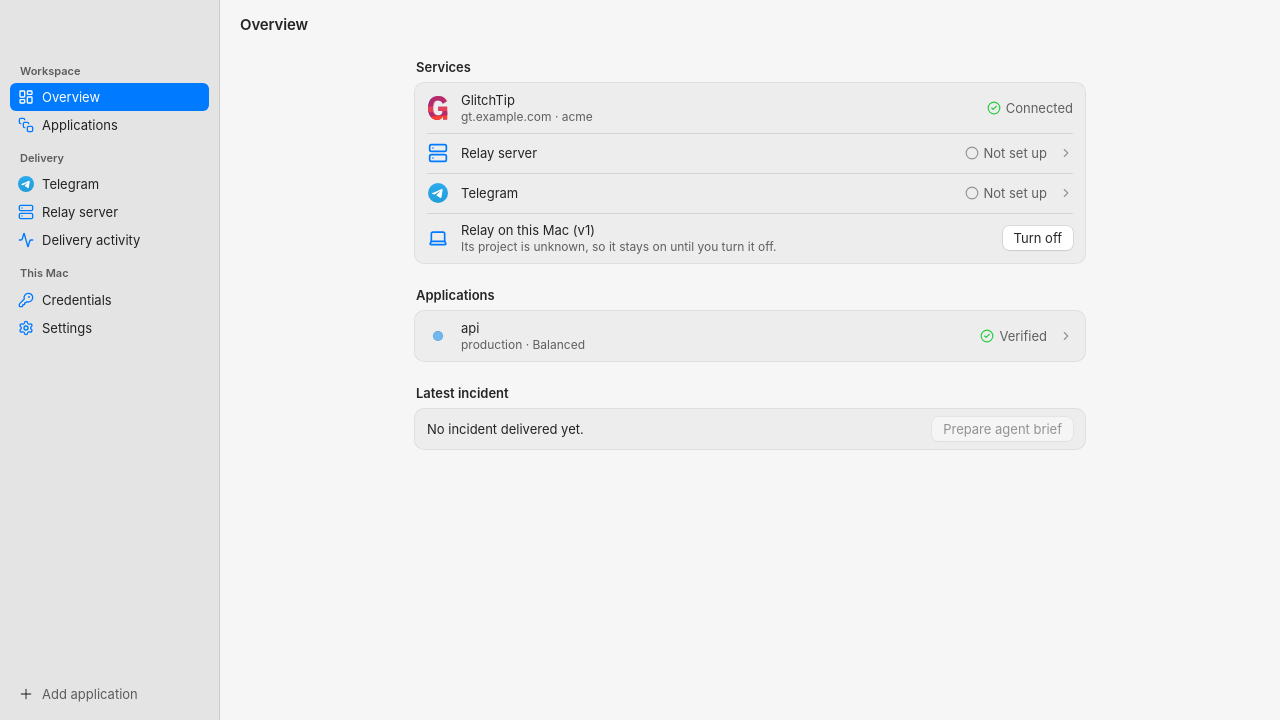
Scenario: first run › turns off a v1 whose project is unknown only when the user confirms
The image size is (1280, 720).
expect the text "Its project is unknown, so it stays on until you turn it off." is shown: met, box 461,239 -> 776,254
Click the button "Turn off" at (1038, 238), box 1002,226 -> 1073,250
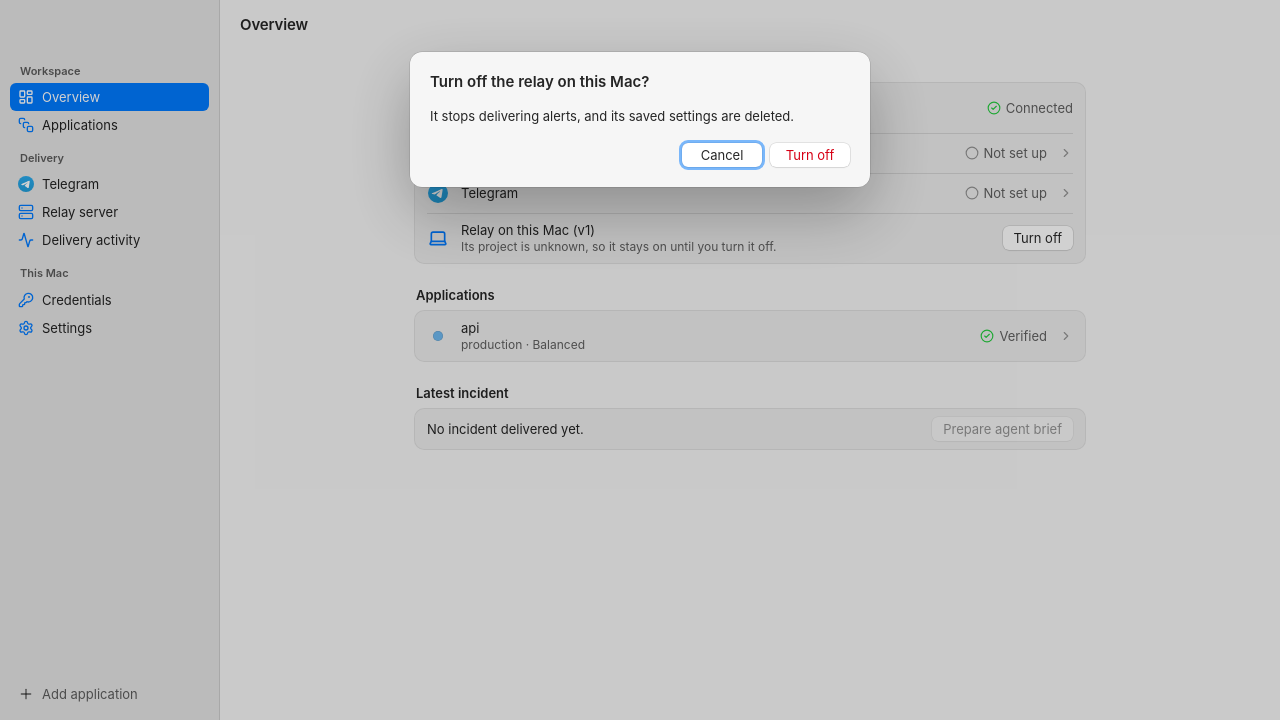
Click the button "Turn off" at (810, 155), box 770,143 -> 850,167
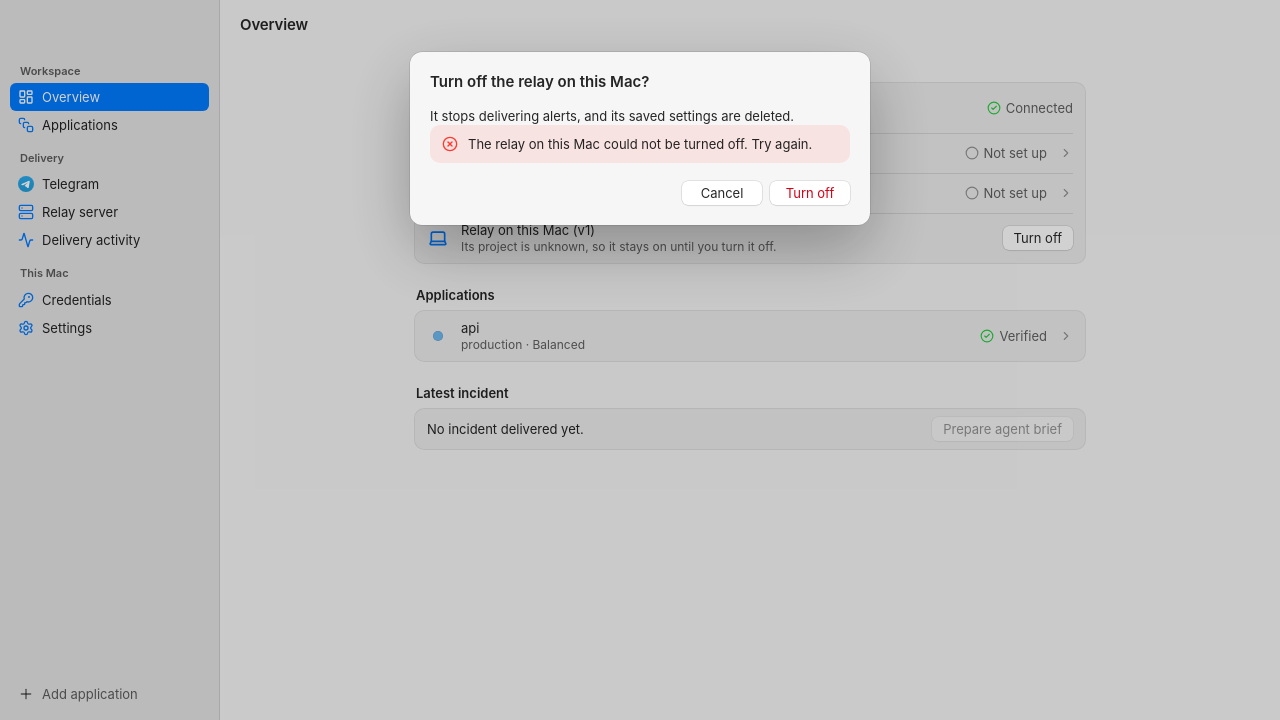
expect the text "The relay on this Mac could not be turned off. Try again." is shown: met, box 468,135 -> 812,153
Click the button "Turn off" at (810, 193), box 770,181 -> 850,205
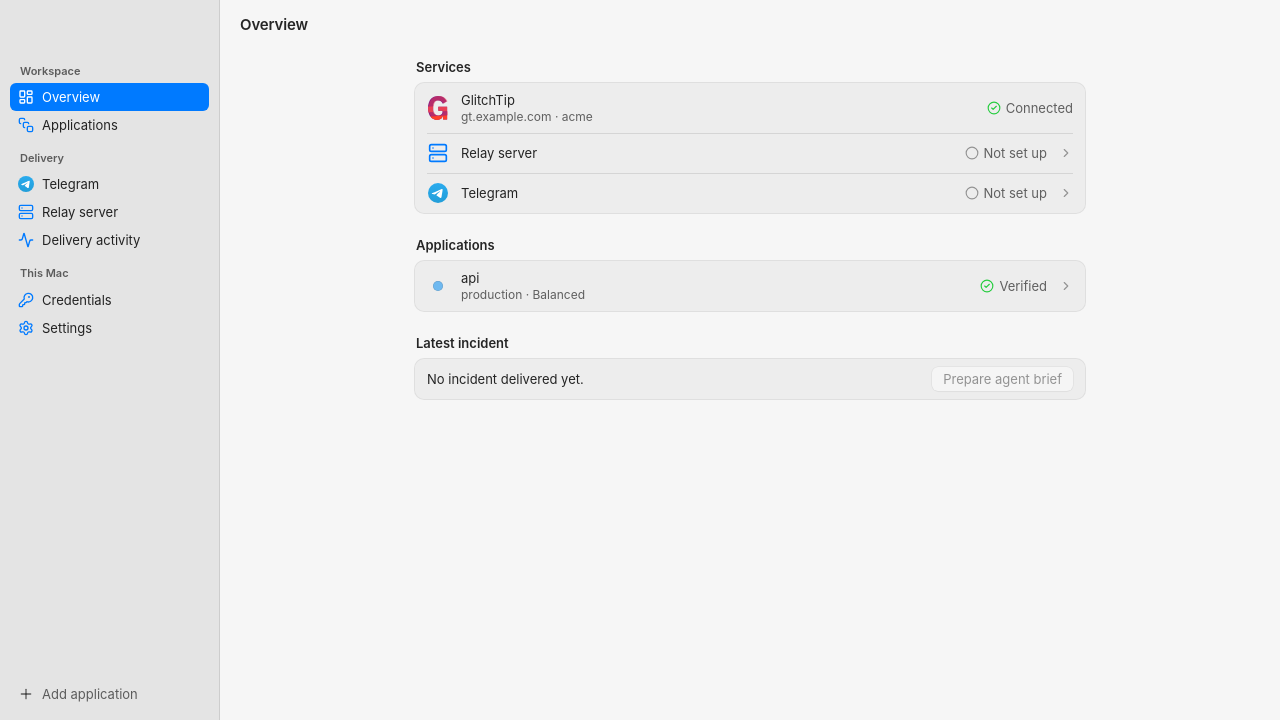
expect the element with test id "health-mac-relay" is gone: met
expect the dialog is gone: met
